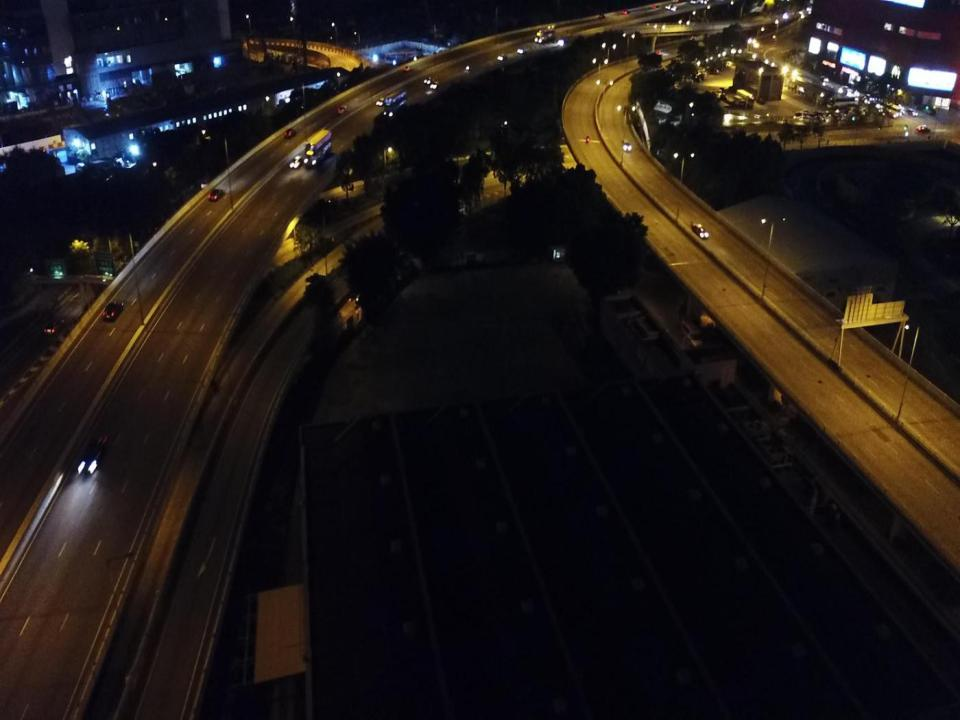bus: (304, 128, 332, 167), (384, 90, 407, 116), (874, 99, 901, 116), (827, 96, 857, 110), (535, 29, 556, 43)
car: (78, 435, 108, 474), (103, 300, 123, 320), (44, 319, 64, 334), (206, 187, 225, 202), (691, 223, 708, 238), (289, 155, 303, 169), (621, 138, 632, 152), (284, 129, 295, 138), (916, 125, 930, 132), (516, 47, 529, 54), (376, 98, 387, 106), (907, 109, 918, 116), (430, 82, 439, 90), (402, 65, 413, 71), (497, 54, 508, 60), (424, 77, 432, 85), (558, 38, 567, 45), (885, 111, 895, 117), (672, 5, 679, 12), (656, 50, 664, 56), (820, 75, 828, 81), (666, 4, 674, 9), (622, 10, 629, 15), (652, 4, 659, 9)
truck: (735, 89, 755, 107), (716, 87, 736, 98), (734, 95, 744, 108), (894, 104, 905, 113)
van: (681, 321, 703, 348), (337, 106, 348, 115)
